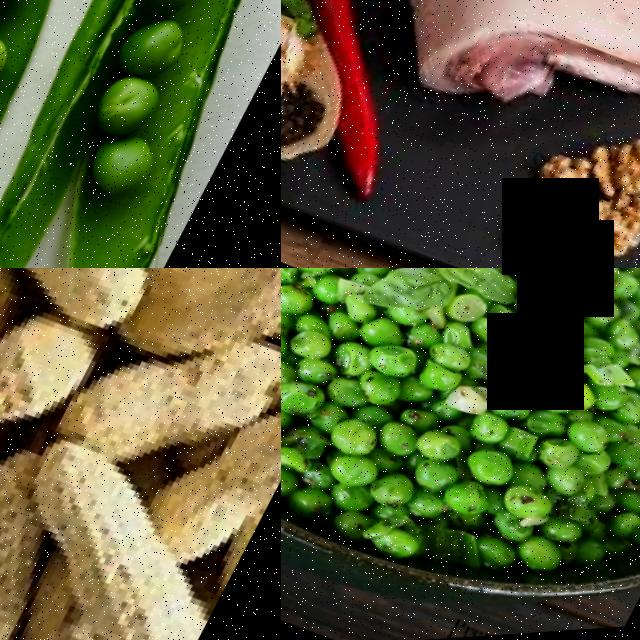peanuts: (60, 336, 246, 492), (40, 499, 239, 640), (115, 268, 281, 402), (179, 397, 281, 574), (0, 292, 112, 442), (0, 268, 188, 352)
peas: (281, 268, 640, 611), (51, 0, 281, 222)
pork belly: (374, 0, 640, 188)
